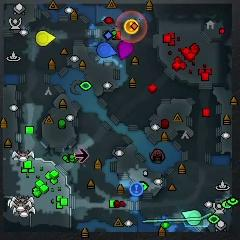Other: (124, 19, 139, 35), (130, 182, 143, 196)
p1: (97, 41, 118, 59)
p2: (181, 209, 202, 226)
p3: (118, 40, 135, 60)
p4: (35, 31, 57, 47)
x1Clone: (75, 148, 89, 163)
